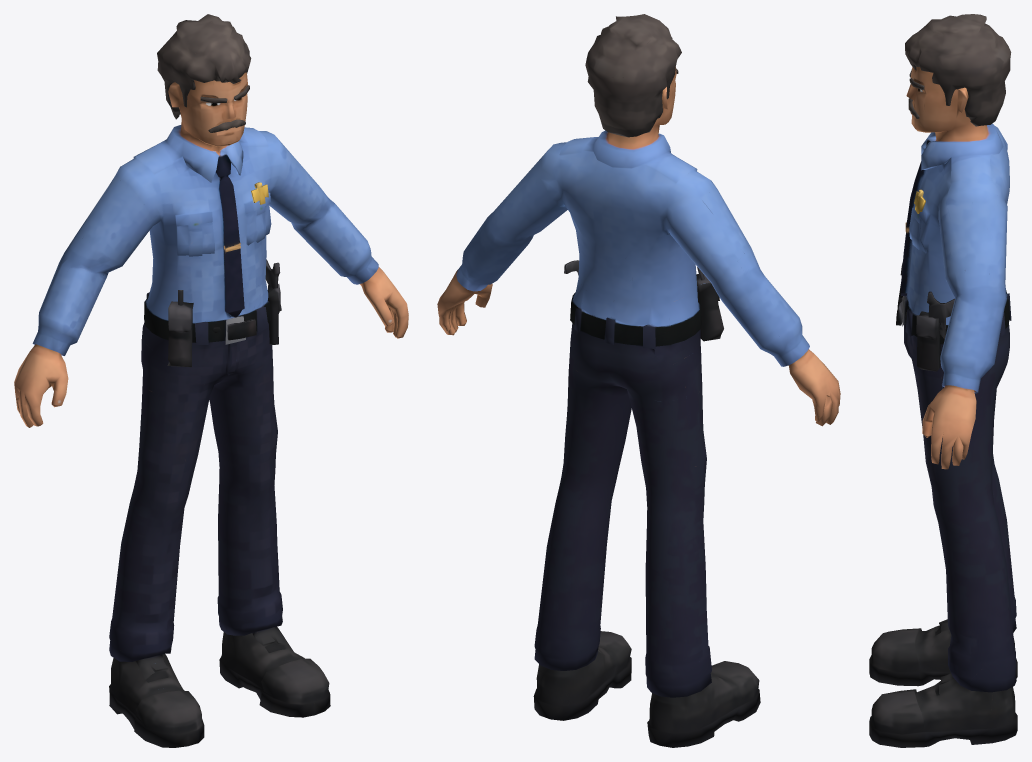
The model's file is police_officer.glb.
The picture shows the model from 3 angles, left to right: view 1: azimuth 30°, elevation 25°; view 2: azimuth 150°, elevation 25°; view 3: azimuth 270°, elevation 25°; orthographic projection. The views are drawn at different scales.
Parts seen in each view (by area): view 1: geometry_0; view 2: geometry_0; view 3: geometry_0.
Boxes of the visible parts, left/top/right/bottom form: geometry_0: left=14, top=14, right=408, bottom=747; geometry_0: left=437, top=14, right=840, bottom=747; geometry_0: left=869, top=14, right=1017, bottom=747.
Bounding box in the file's own units: 0.5659 × 0.9517 × 0.187.
Materials: 1 (1 with a texture image).
